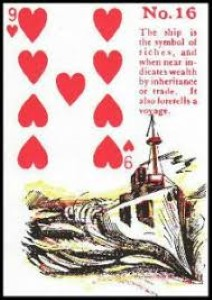NineOfHearts: (1, 2, 208, 290)
